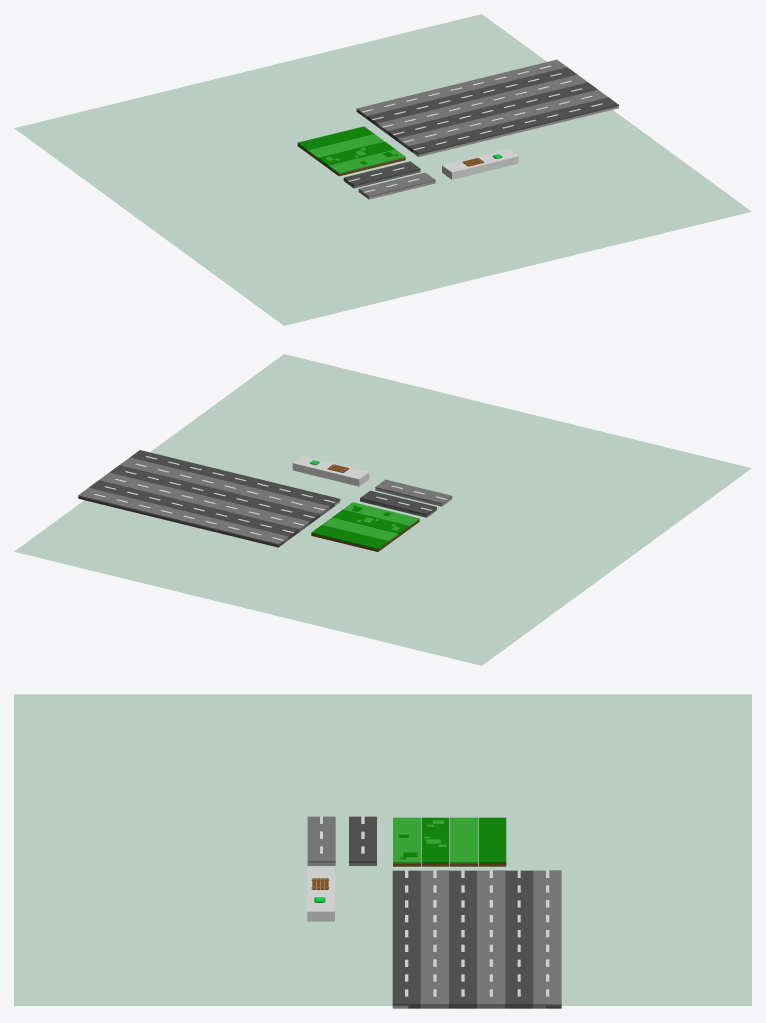
Rendered from graund.fbx.
The picture shows the model from 3 angles, top to bottom: view 1: azimuth 30°, elevation 25°; view 2: azimuth 150°, elevation 25°; view 3: azimuth 270°, elevation 25°; orthographic projection. The views are drawn at different scales.
Visible parts, largest first — view 1: Plane, asphalt, ground 1.002, asphalt 1dark 1 part.001, asphalt 1 part.001, ground 1, ground 2, ground 1.001, ground 2.001; view 2: Plane, asphalt, ground 1.002, asphalt 1 part.001, ground 2.001, asphalt 1dark 1 part.001, ground 2, ground 1, ground 1.001; view 3: Plane, asphalt, asphalt 1 part.001, ground 2, ground 2.001, ground 1, ground 1.001, asphalt 1dark 1 part.001, ground 1.002.
Boxes of the visible parts, x1,y1,x2,y2 form: Plane: (14,14,751,325); asphalt: (356,59,618,156); ground 1.002: (442,149,518,179); asphalt 1dark 1 part.001: (343,161,420,188); asphalt 1 part.001: (358,172,435,199); ground 1: (328,149,405,176); ground 2: (318,141,394,168); ground 1.001: (308,134,384,160); ground 2.001: (297,126,373,153); Plane: (14,354,751,665); asphalt: (78,450,340,547); ground 1.002: (292,456,369,486); asphalt 1 part.001: (375,479,452,506); ground 2.001: (311,525,388,551); asphalt 1dark 1 part.001: (360,490,436,517); ground 2: (332,509,409,536); ground 1: (343,502,419,528); ground 1.001: (322,517,398,544); Plane: (14,694,751,1005); asphalt: (392,870,561,1008); asphalt 1 part.001: (307,816,335,865); ground 2: (421,817,449,866); ground 2.001: (478,817,506,866); ground 1: (393,817,420,866); ground 1.001: (450,817,477,866); asphalt 1dark 1 part.001: (349,816,376,865); ground 1.002: (307,867,334,921).
Size of the model in its own units: 12548 by 223 by 12401.
